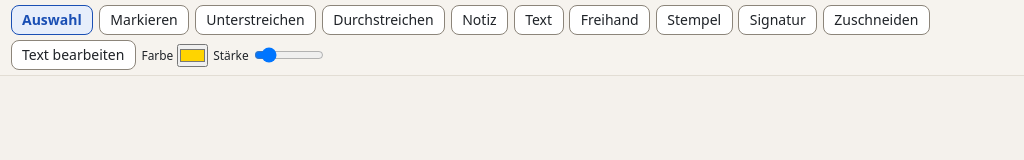
Scenario: Werkzeugleiste › bietet die Stempeltexte nur beim Stempelwerkzeug an
Click the button with test id "werkzeug-stempel".
click(694, 20)  # box [656,5,733,35]
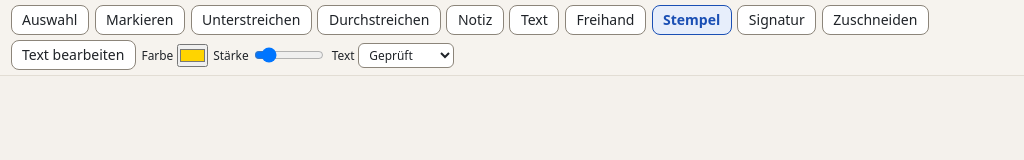
Expected: the dropdown with test id "werkzeug-stempeltext" is shown, [358,43,454,68]
